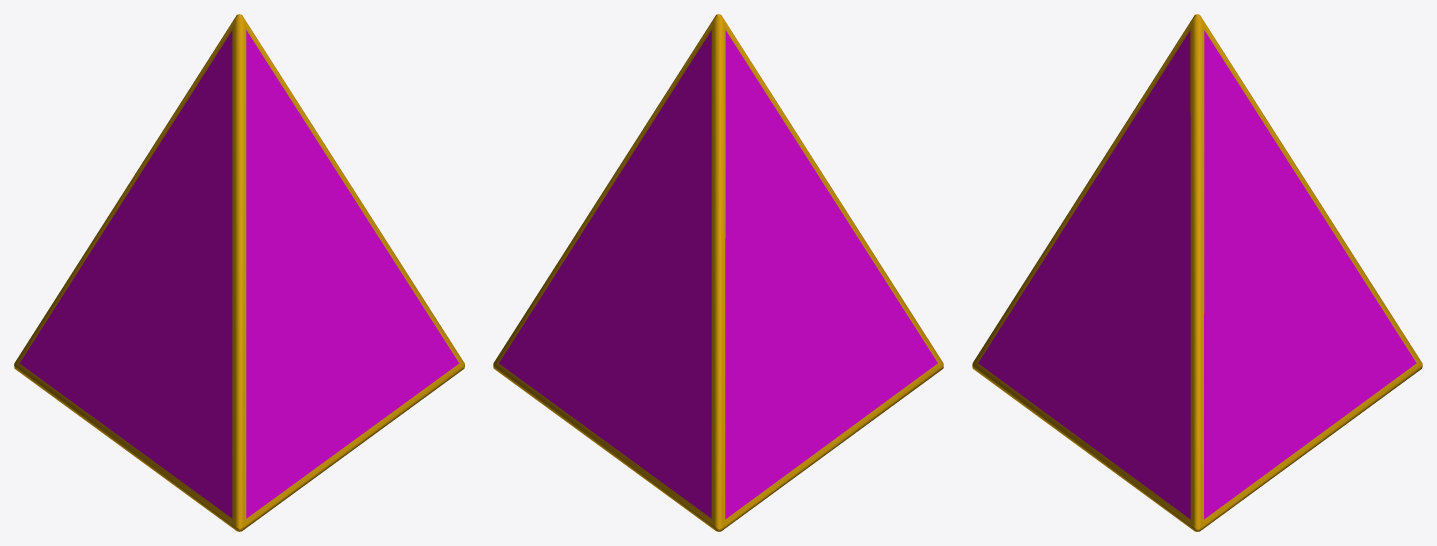
File: prp_D4.fbx
3 renders of one model, left to right at view 1: azimuth 30°, elevation 25°; view 2: azimuth 150°, elevation 25°; view 3: azimuth 270°, elevation 25°, orthographic.
Parts seen in each view (by area): view 1: prp_D4; view 2: prp_D4; view 3: prp_D4.
Part boxes in pixels (x1,y1,x2,y2): prp_D4: (14,14,464,531); prp_D4: (493,14,943,531); prp_D4: (972,14,1422,531).
Bounding box in the file's own units: 0.5968 × 0.6846 × 0.6881.
